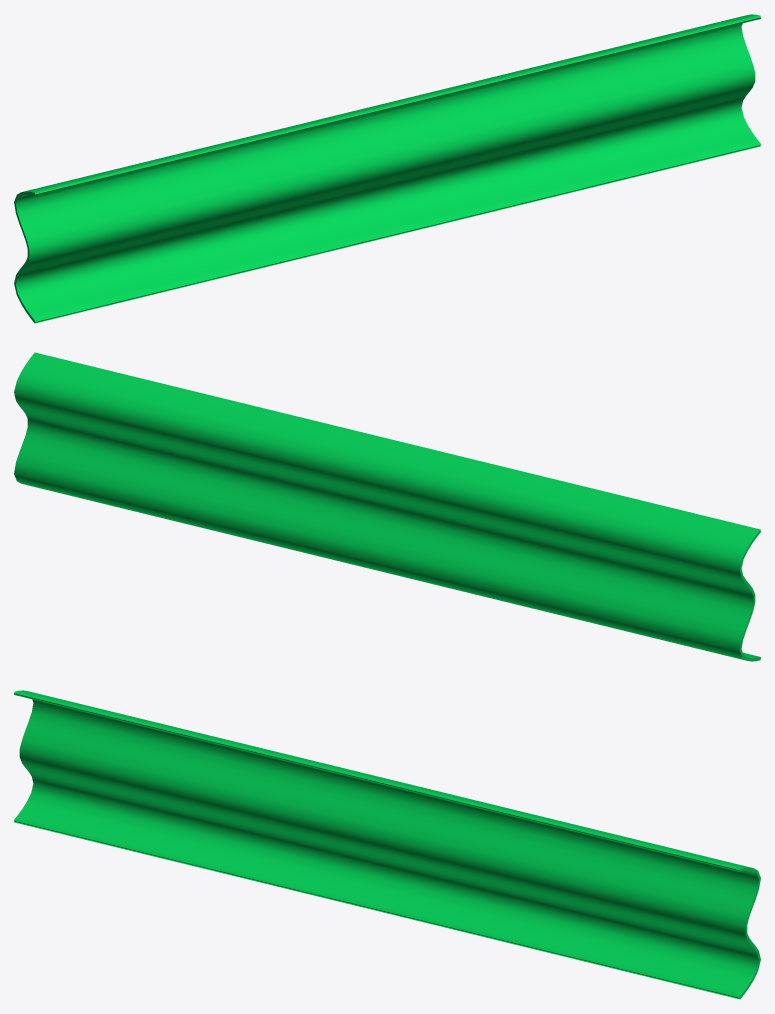
3 renders of one model, top to bottom at view 1: azimuth 30°, elevation 25°; view 2: azimuth 150°, elevation 25°; view 3: azimuth 330°, elevation 25°, orthographic.
Parts seen in each view (by area): view 1: GuardRail_A_2mX_LOD0; view 2: GuardRail_A_2mX_LOD0; view 3: GuardRail_A_2mX_LOD0.
Part boxes in pixels (left/top/right/bottom): GuardRail_A_2mX_LOD0: left=14, top=14, right=760, bottom=323; GuardRail_A_2mX_LOD0: left=14, top=352, right=760, bottom=661; GuardRail_A_2mX_LOD0: left=14, top=690, right=760, bottom=999.
Size of the model in its own units: 200 by 10.15 by 34.46.
